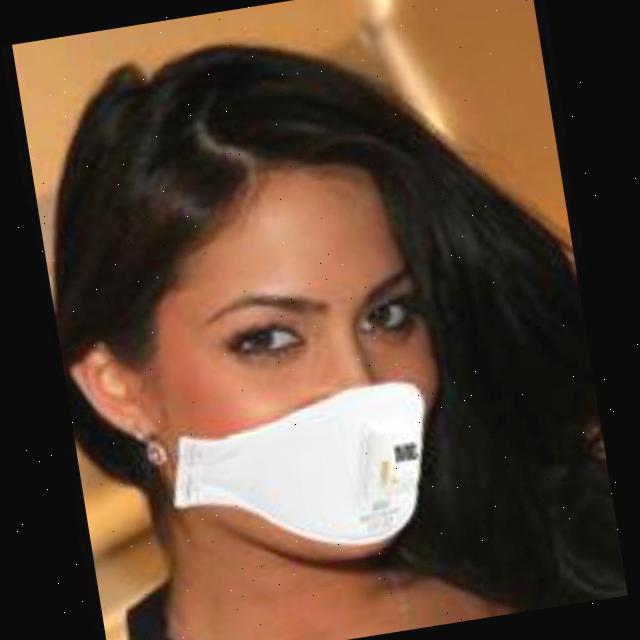suspicion: (31, 77, 506, 612)
